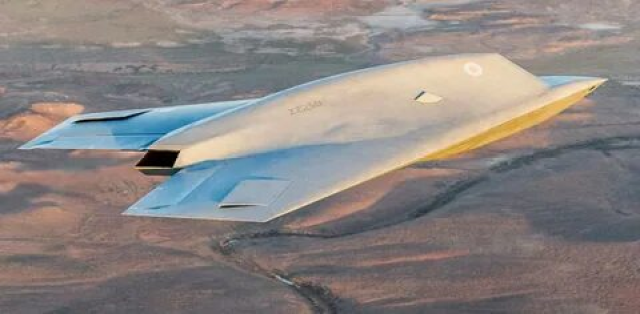military drone: (15, 51, 608, 223)
